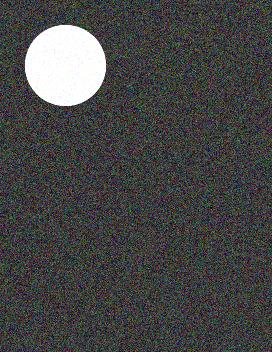A: (16, 16, 257, 340)
